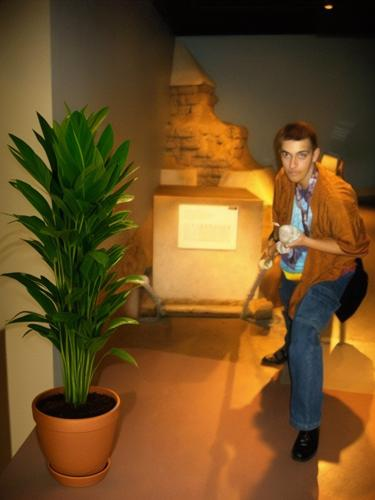person: (262, 122, 370, 465)
person/foot: (289, 427, 321, 463), (259, 345, 290, 365)
person/hand: (287, 233, 310, 248)
person/head: (278, 121, 321, 181)
pottedplant: (1, 86, 140, 489)
